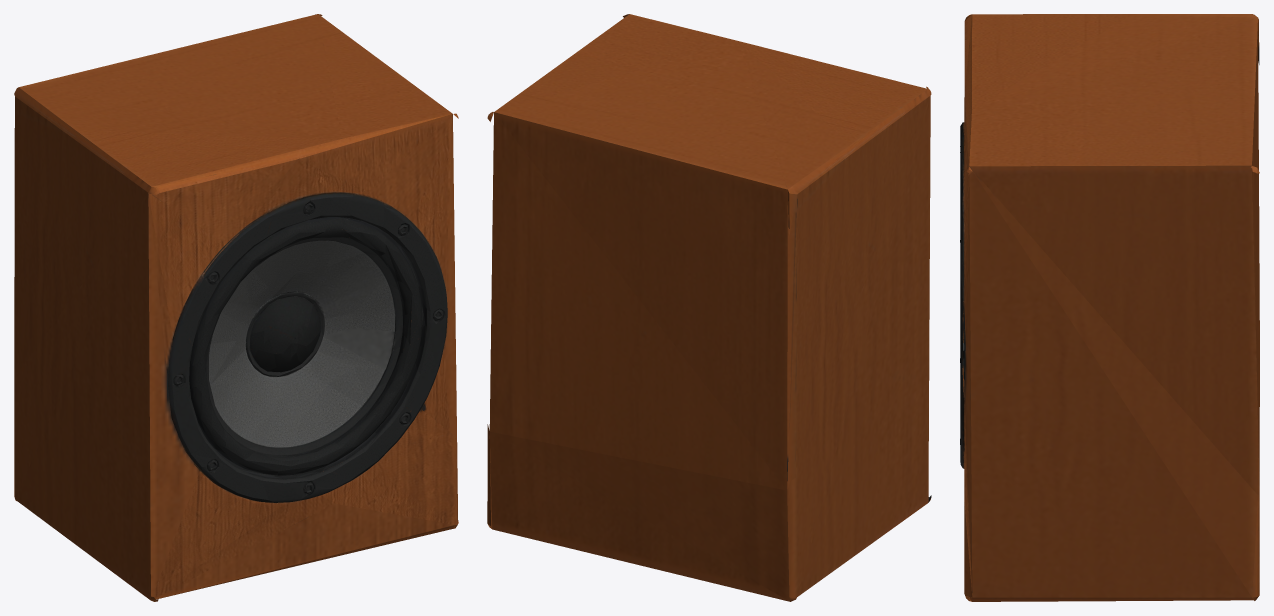
File: loudspeaker.glb
3 views of the same model, side by side, from view 1: azimuth 30°, elevation 25°; view 2: azimuth 150°, elevation 25°; view 3: azimuth 270°, elevation 25° (orthographic). The views are drawn at different scales.
Parts seen in each view (by area): view 1: output_unwrapped; view 2: output_unwrapped; view 3: output_unwrapped.
Part boxes in pixels (box(x1,y1,x2,y2)): output_unwrapped: box(14, 14, 458, 601); output_unwrapped: box(487, 14, 931, 601); output_unwrapped: box(960, 14, 1259, 601).
Size of the model in its own units: 1.48 by 1.9 by 1.18.
Materials: 1 (1 with a texture image).
